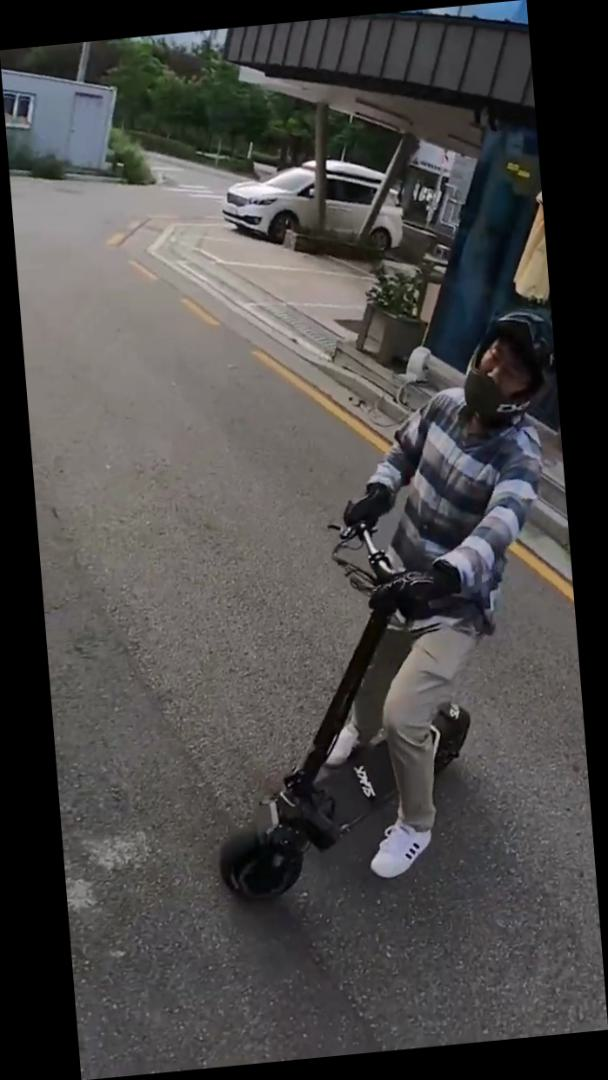helmet: (177, 304, 596, 910)
